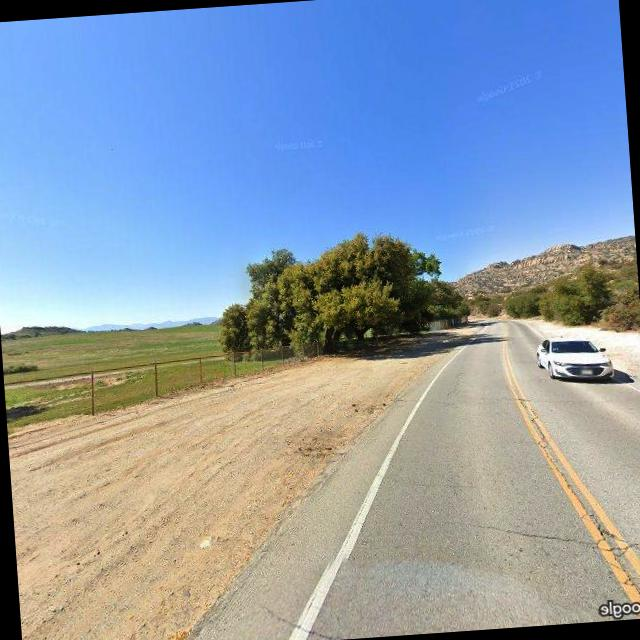crack: (522, 390, 617, 548), (460, 505, 640, 568), (261, 597, 336, 640)
